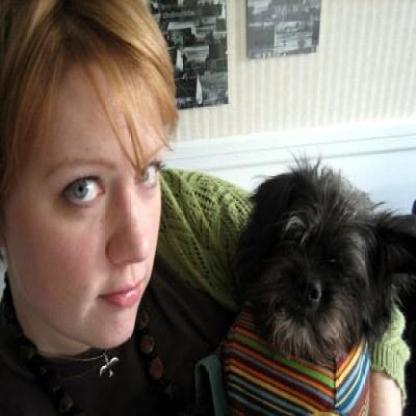affenpinscher: (228, 138, 400, 414)
